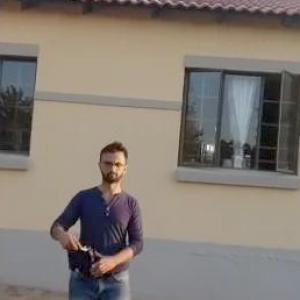follow: (41, 129, 150, 299)
